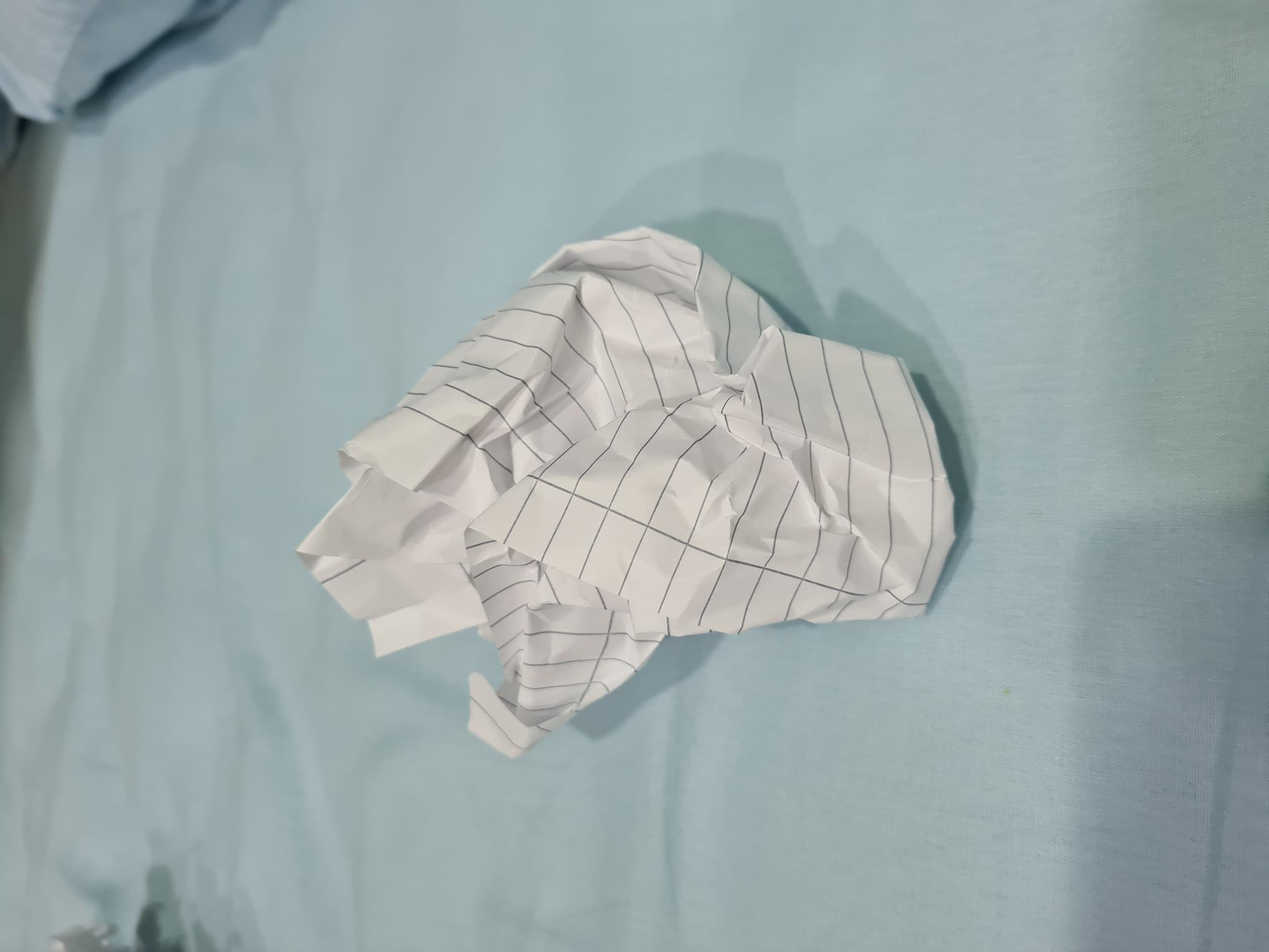Kertas: (323, 367, 591, 949)
